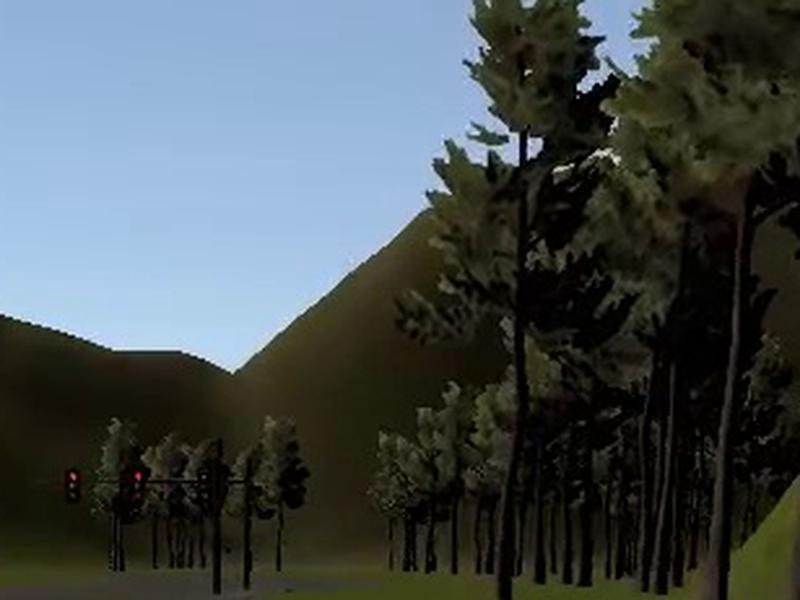Red: (129, 468, 142, 505), (66, 468, 78, 504)
